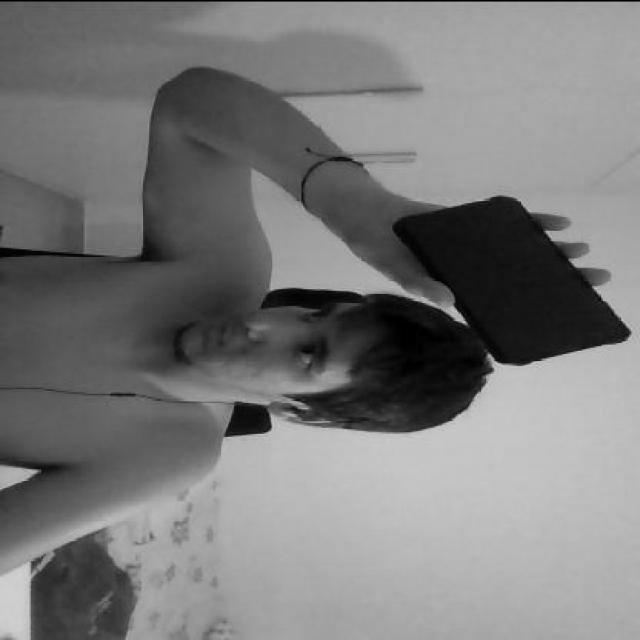fake: (396, 193, 630, 362)
real: (168, 293, 375, 399)
